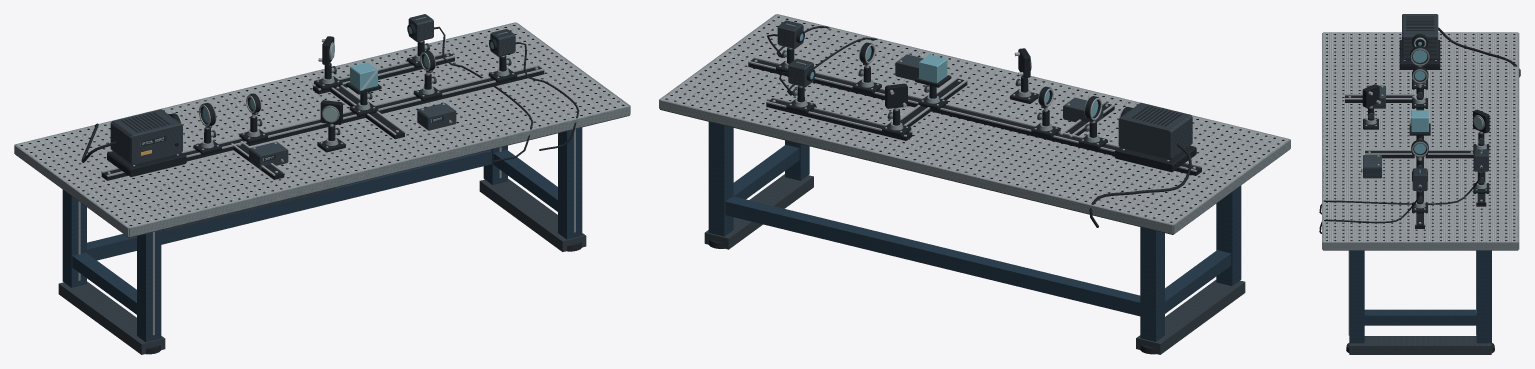
Rendered from optical-bench.glb.
3 renders of one model, left to right at view 1: azimuth 30°, elevation 25°; view 2: azimuth 150°, elevation 25°; view 3: azimuth 270°, elevation 25°, orthographic. The views are drawn at different scales.
Parts seen in each view (by area): view 1: optical-bench; view 2: optical-bench; view 3: optical-bench.
Part boxes in pixels (box(x1,y1,x2,y2)): optical-bench: box(14, 14, 630, 354); optical-bench: box(659, 14, 1290, 354); optical-bench: box(1319, 14, 1520, 354).
Size of the model in its own units: 3.01 by 1.11 by 1.22.
Materials: 12 (7 with a texture image).
